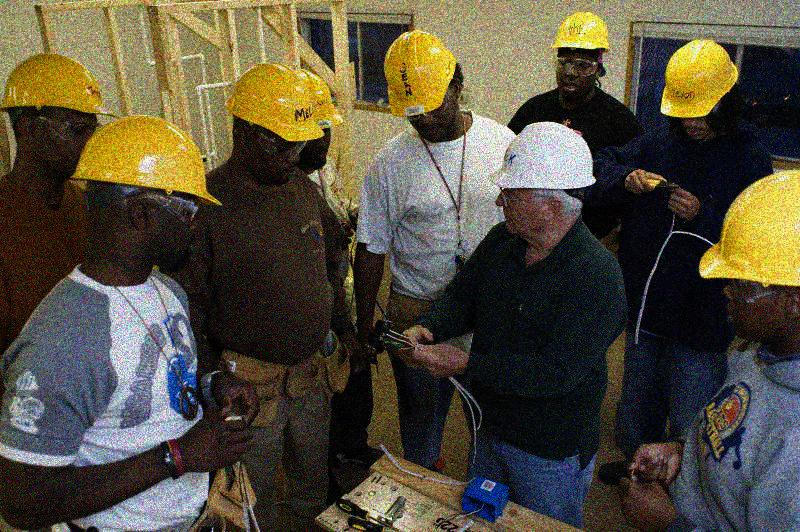helmet: (72, 112, 222, 273), (701, 165, 800, 337), (1, 53, 108, 176), (495, 118, 598, 242), (224, 62, 323, 183), (380, 29, 462, 140), (659, 37, 737, 146), (276, 65, 342, 172), (550, 10, 609, 105)
